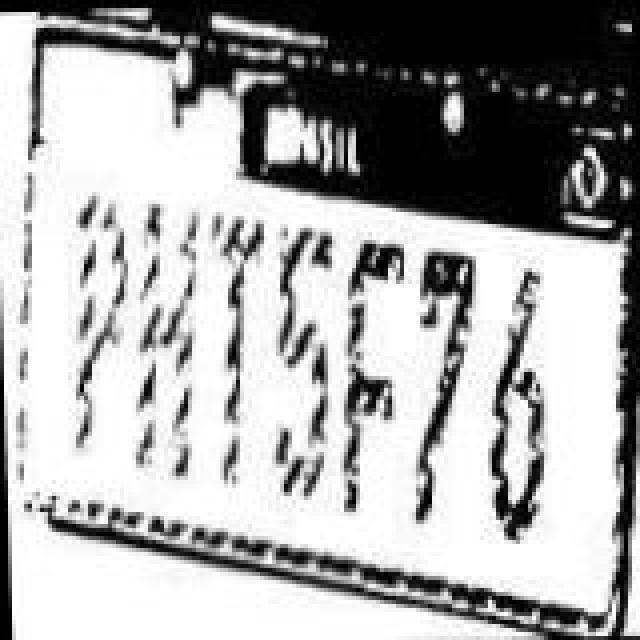5: (268, 208, 352, 524)
6: (476, 242, 568, 550)
7: (404, 226, 488, 538)
F: (332, 212, 416, 524)
H: (134, 192, 210, 512)
P: (62, 194, 138, 502)
T: (202, 208, 282, 520)
